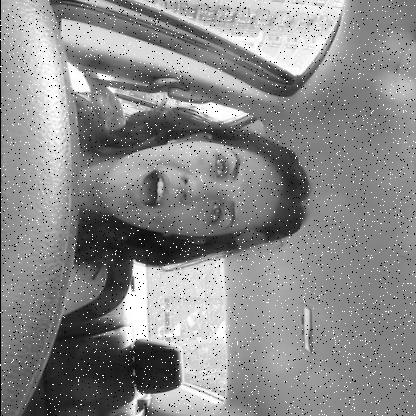no_seatbelt: (0, 71, 325, 274)
